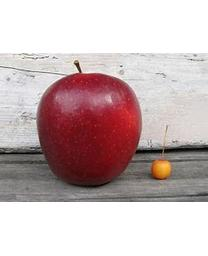apple: (35, 60, 142, 187)
